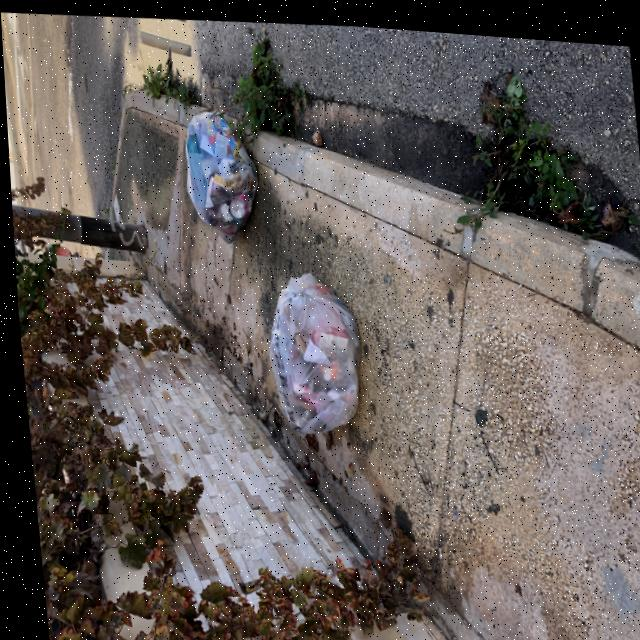Recycled Waste -Grey or Green Bag-: (259, 264, 366, 433), (179, 104, 262, 244)
